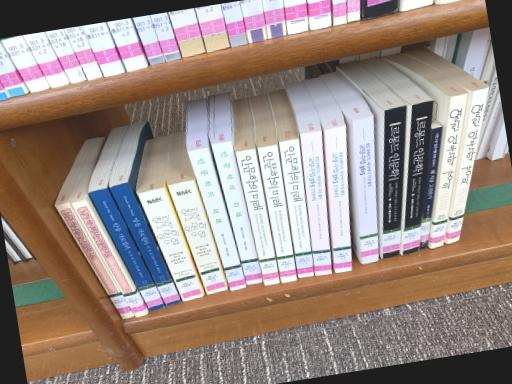book-spine: (88, 188, 164, 310), (55, 202, 133, 318), (109, 182, 181, 305), (71, 199, 146, 317), (188, 147, 246, 290), (137, 188, 204, 301), (211, 141, 262, 284), (167, 179, 227, 294), (447, 86, 489, 243), (235, 148, 280, 285), (257, 145, 297, 282), (431, 92, 466, 247), (278, 138, 314, 277), (402, 99, 433, 254), (300, 130, 332, 274), (323, 125, 352, 272), (352, 116, 378, 263), (383, 105, 405, 259), (419, 126, 442, 248)
